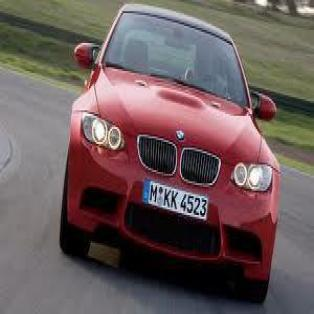Auto: (59, 6, 280, 299)
